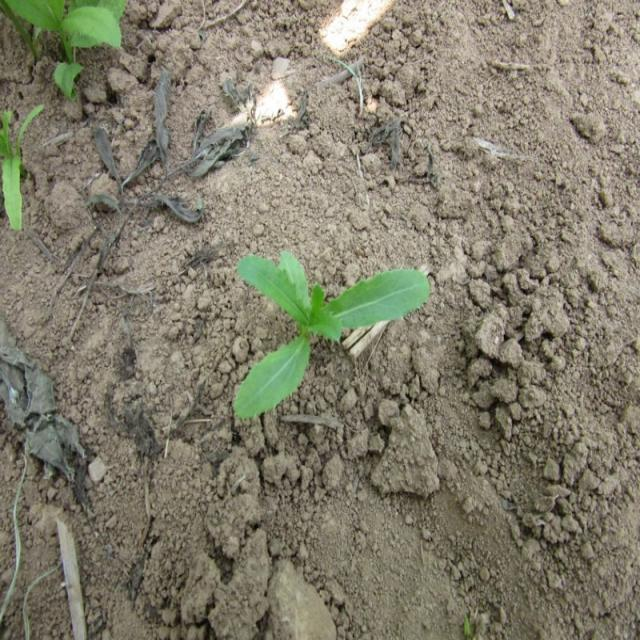cs: (228, 236, 435, 424)
